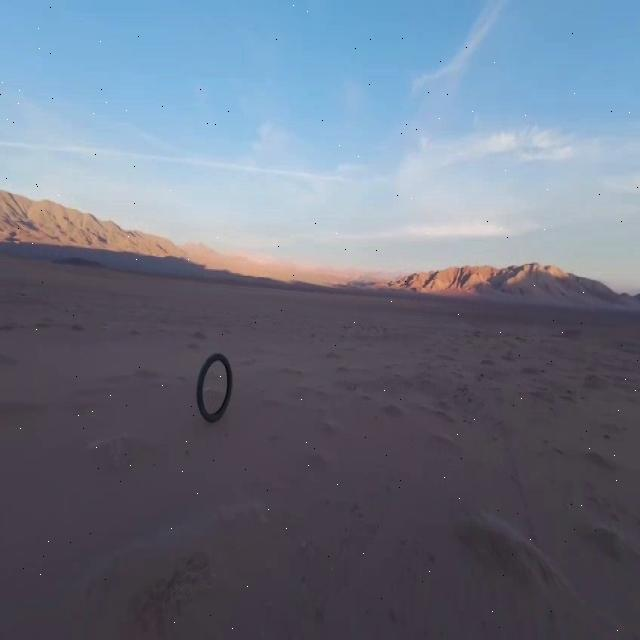Tire: (198, 353, 232, 422)
